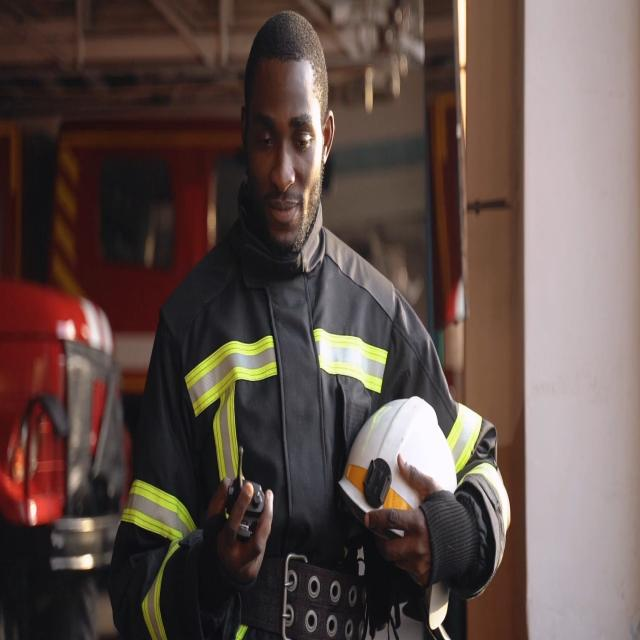Jacket_Wearer: (127, 215, 491, 632)
Person: (118, 10, 507, 640)
